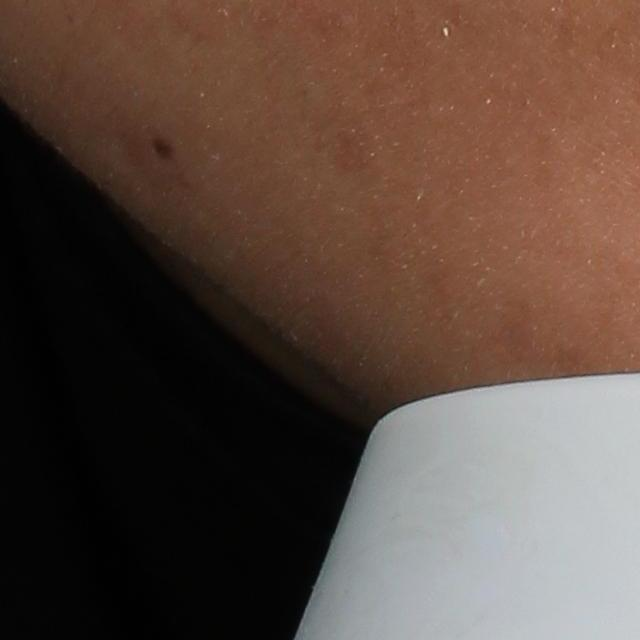nevus: (150, 141, 174, 160)
